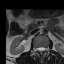CCS_normal: (39, 44, 42, 57)
LFS_normal: (44, 45, 47, 52)
LLS_normal: (42, 45, 44, 53)
RFS_normal: (35, 45, 37, 53)
RLS_normal: (37, 45, 39, 52)
